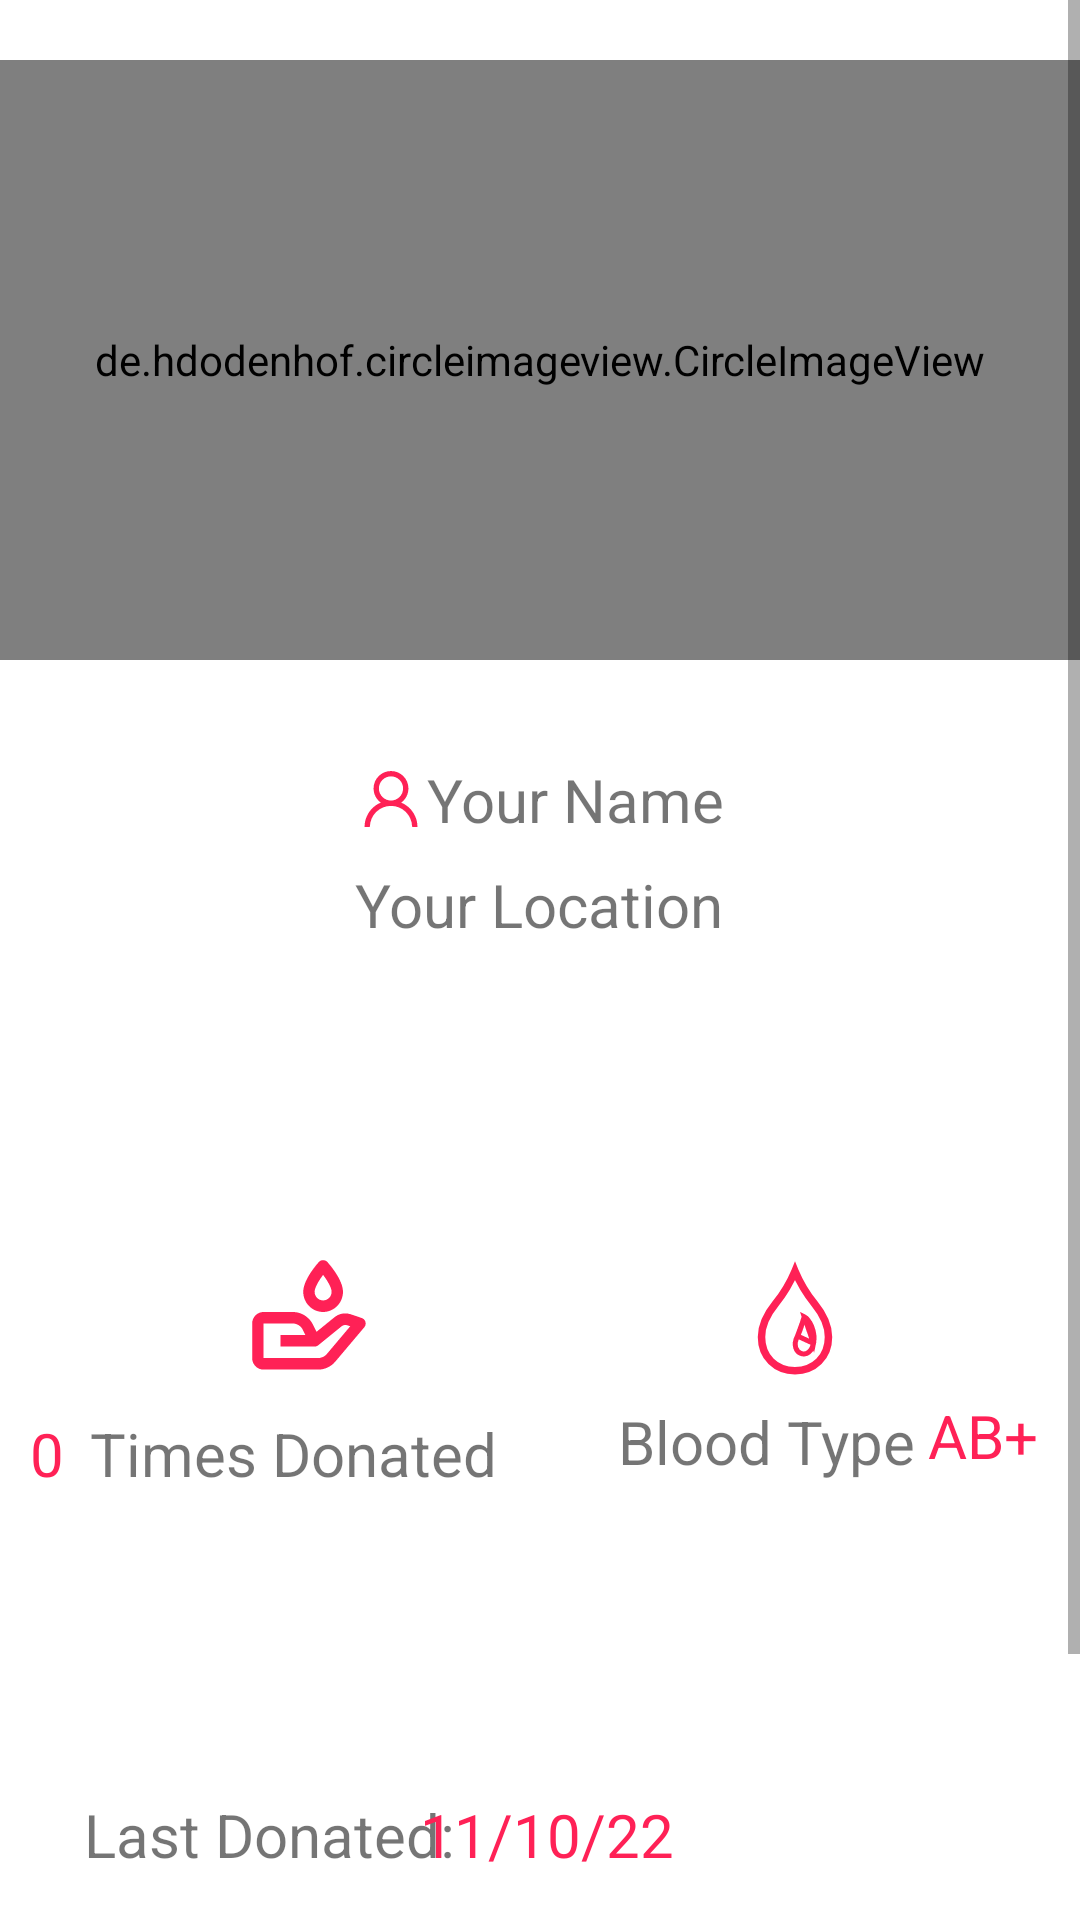

Icons on this 1080 x 1920 Android screen, each with its box as (x1, y1, x2, y2):
blood grpup register: (757, 1261, 833, 1375)
